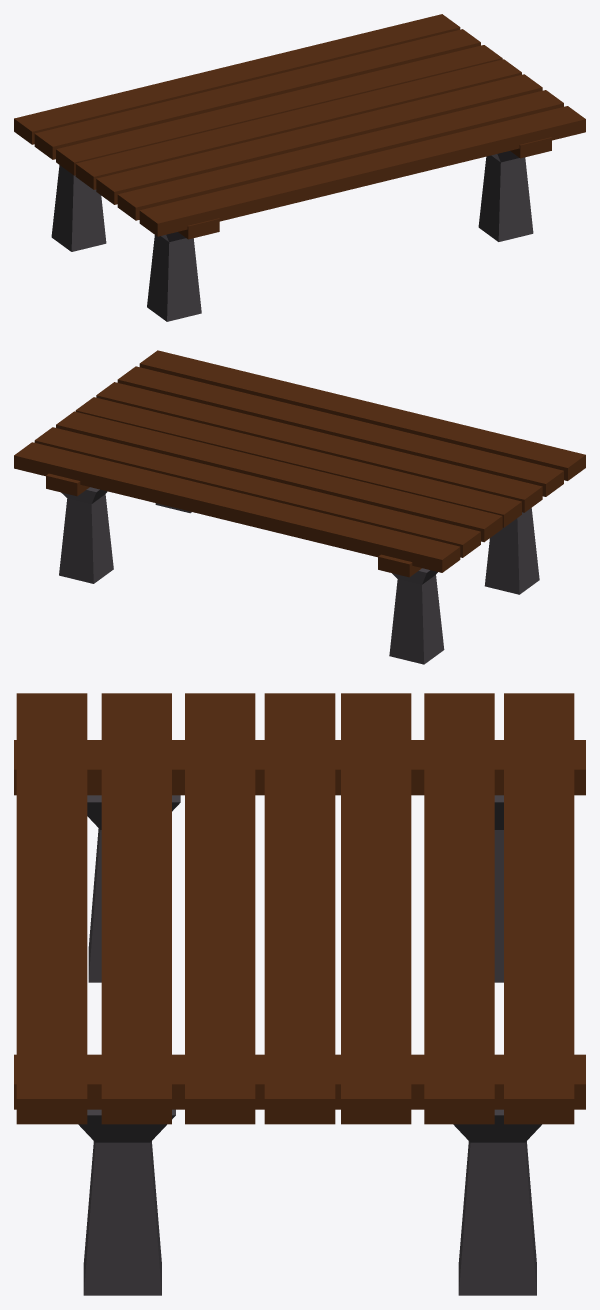
Rendered from Bench.fbx.
The picture shows the model from 3 angles, top to bottom: view 1: azimuth 30°, elevation 25°; view 2: azimuth 150°, elevation 25°; view 3: azimuth 270°, elevation 25°; orthographic projection. The views are drawn at different scales.
Parts seen in each view (by area): view 1: Cube.009, Cube.008, Cube.011, Cube.007, Cube.005, Cube.010, Cube.012, Cube.003, Cube.002, Cube, Cube.004, Cube.006; view 2: Cube.010, Cube.009, Cube.012, Cube.008, Cube.007, Cube.011, Cube.005, Cube.001, Cube, Cube.002, Cube.004, Cube.006; view 3: Cube.005, Cube.009, Cube.011, Cube.007, Cube.008, Cube.010, Cube.012, Cube.003, Cube.001, Cube.006, Cube.004, Cube.002 (+1 smaller).
Boxes of the visible parts, x1,y1,x2,y2 form: Cube.009: [139, 106, 585, 236]; Cube.008: [117, 90, 563, 220]; Cube.011: [34, 29, 480, 159]; Cube.007: [96, 74, 542, 204]; Cube.005: [75, 59, 521, 189]; Cube.010: [14, 14, 460, 144]; Cube.012: [56, 45, 502, 175]; Cube.003: [478, 151, 533, 241]; Cube.002: [147, 232, 201, 321]; Cube: [51, 165, 106, 251]; Cube.004: [178, 218, 219, 239]; Cube.006: [510, 137, 551, 158]; Cube.010: [14, 442, 460, 572]; Cube.009: [139, 350, 585, 480]; Cube.012: [56, 411, 502, 542]; Cube.008: [117, 366, 563, 496]; Cube.007: [96, 382, 542, 512]; Cube.011: [34, 427, 480, 557]; Cube.005: [75, 397, 521, 527]; Cube.001: [59, 487, 113, 583]; Cube: [389, 568, 444, 664]; Cube.002: [484, 508, 539, 594]; Cube.004: [378, 554, 421, 577]; Cube.006: [46, 473, 89, 496]; Cube.005: [264, 693, 335, 1124]; Cube.009: [16, 693, 87, 1124]; Cube.011: [424, 693, 494, 1124]; Cube.007: [185, 693, 255, 1124]; Cube.008: [101, 693, 171, 1124]; Cube.010: [504, 693, 574, 1124]; Cube.012: [341, 693, 411, 1124]; Cube.003: [78, 1109, 175, 1295]; Cube.001: [453, 1109, 541, 1295]; Cube.006: [14, 1054, 585, 1109]; Cube.004: [14, 740, 585, 795]; Cube.002: [87, 795, 180, 982].
Size of the model in its own units: 778 by 206 by 463.
